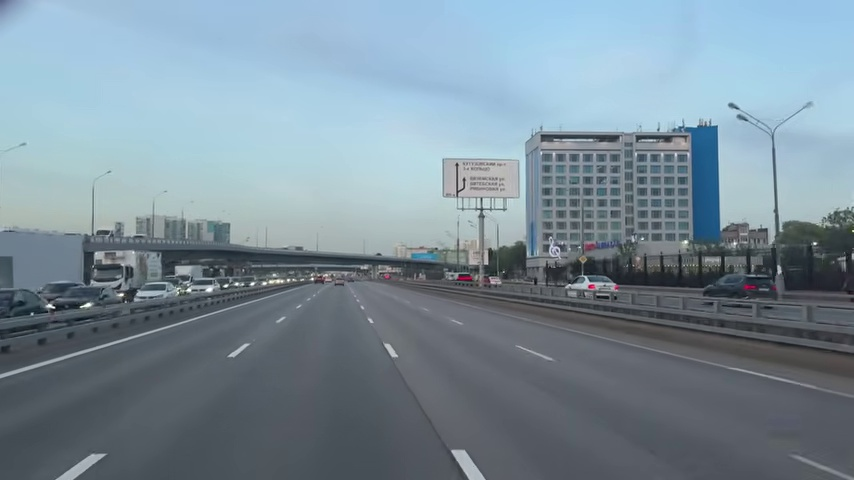apagada: (725, 99, 746, 121), (794, 99, 814, 116), (101, 167, 115, 180)
